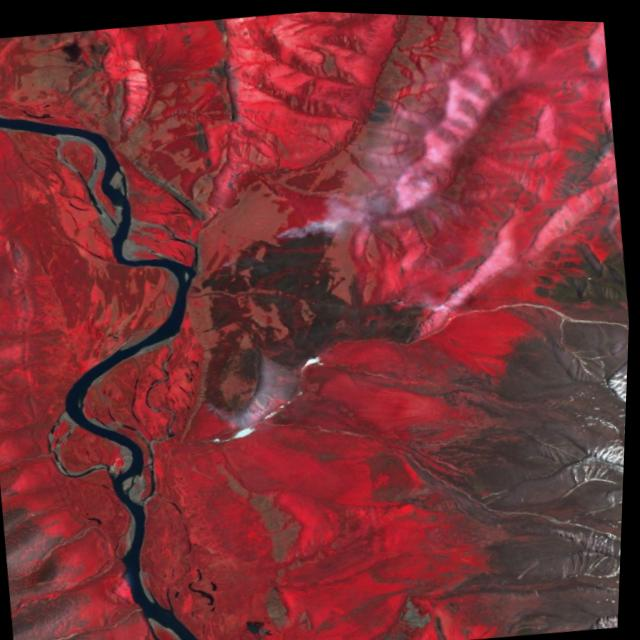fire: (268, 209, 346, 246), (384, 281, 448, 316), (189, 388, 231, 420)
